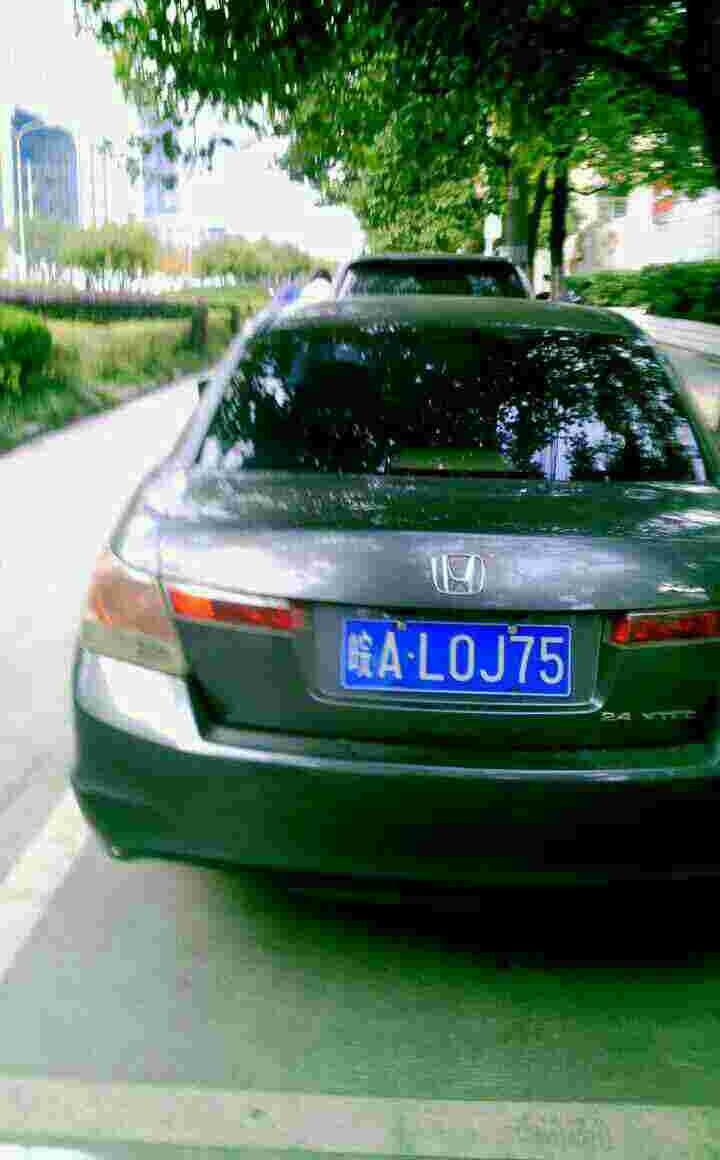license_plate: (339, 614, 583, 708)
